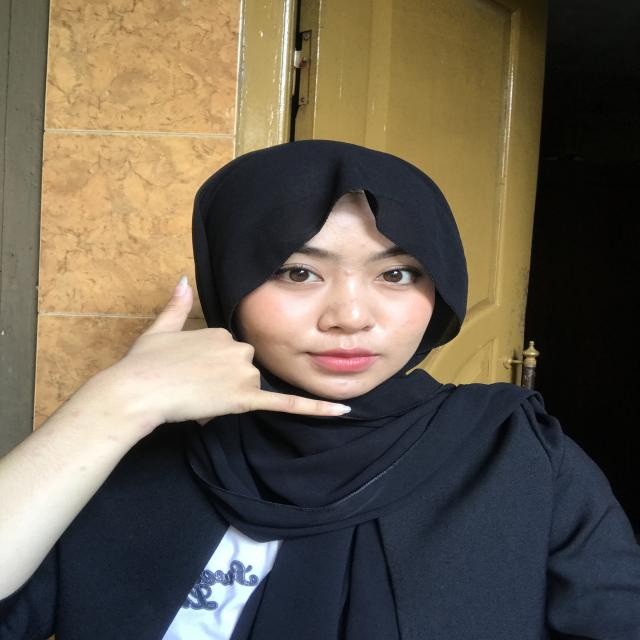telpon: (91, 269, 370, 466)
